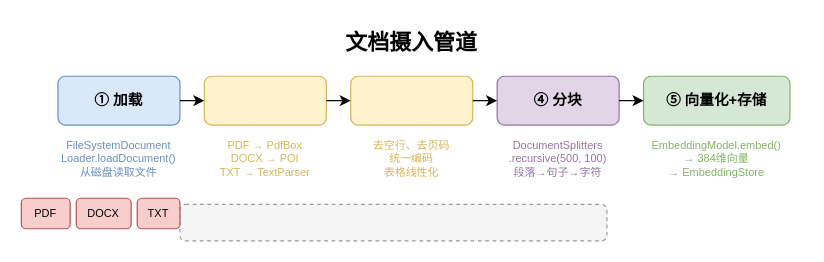
This 824x262 diagram has some shape labels left out. Each missing label, with the centre of its shape:
EmbeddingStoreIngestor 一键封装了 ②③④⑤: the point at 393,222
② 解析: the point at 264,100
③ 预处理: the point at 411,100
